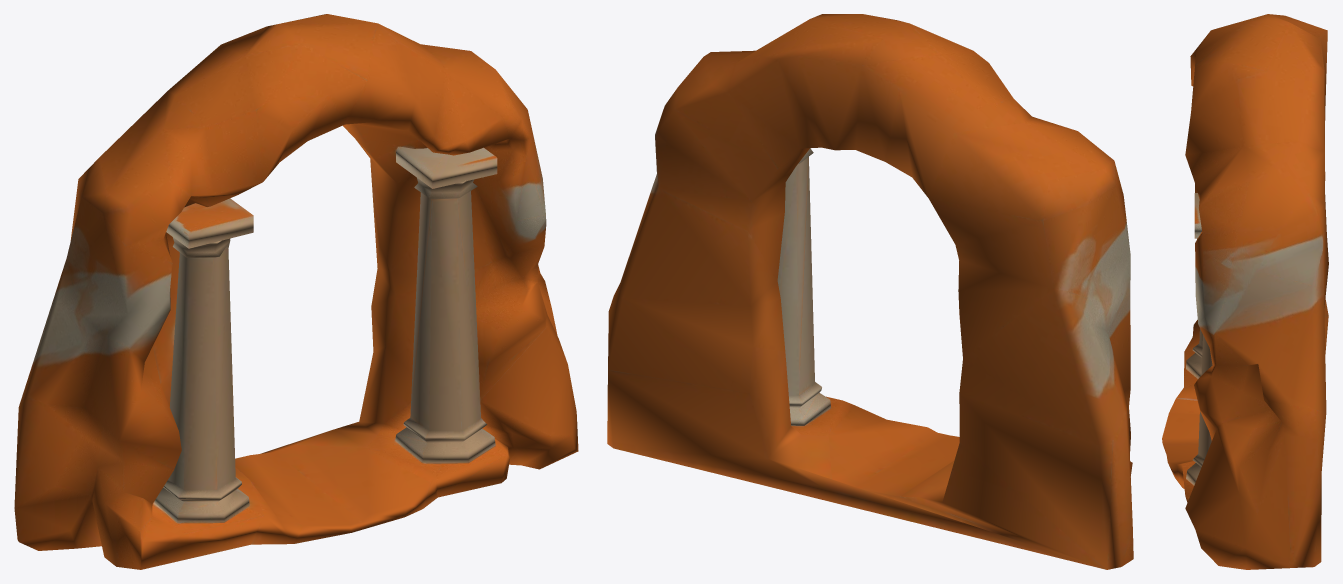
Rendered from desert-arch.glb.
3 renders of one model, left to right at view 1: azimuth 30°, elevation 25°; view 2: azimuth 150°, elevation 25°; view 3: azimuth 270°, elevation 25°, orthographic. The views are drawn at different scales.
Bounding box in the file's own units: 0.9614 × 0.8037 × 0.2837.
Materials: 1 (1 with a texture image).
